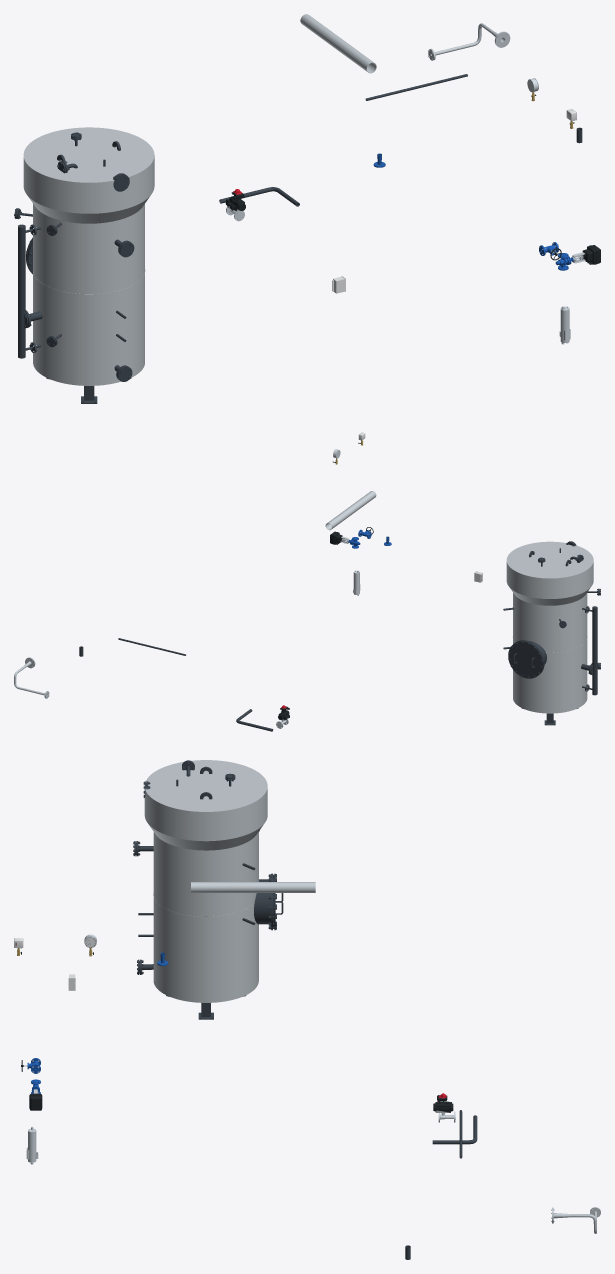
Rendered from s4000-1-C-osASXy.glb.
3 views of the same model, one above another, from view 1: azimuth 30°, elevation 25°; view 2: azimuth 150°, elevation 25°; view 3: azimuth 270°, elevation 25° (orthographic). The views are drawn at different scales.
Parts seen in each view (by area): view 1: deaerator / shell, deaerator / dark, steam_delivery / steel, bcv925 / bcv925_0.npz, fv_to_trap_gap / steel; view 2: deaerator / shell, DA3 CAD 76, deaerator / dark, steam_delivery / steel; view 3: deaerator / shell, steam_delivery / steel.
Part boxes in pixels (x1,y1,x2,y2): deaerator / shell: (23, 127, 154, 385); deaerator / dark: (18, 224, 40, 358); steam_delivery / steel: (300, 14, 376, 73); bcv925 / bcv925_0.npz: (555, 245, 600, 270); fv_to_trap_gap / steel: (428, 23, 510, 60); deaerator / shell: (506, 541, 593, 713); DA3 CAD 76: (508, 641, 543, 678); deaerator / dark: (582, 606, 597, 695); steam_delivery / steel: (325, 491, 376, 530); deaerator / shell: (144, 760, 267, 1002); steam_delivery / steel: (191, 882, 315, 892).
Size of the model in its own units: 7.63 by 2.82 by 6.11.
